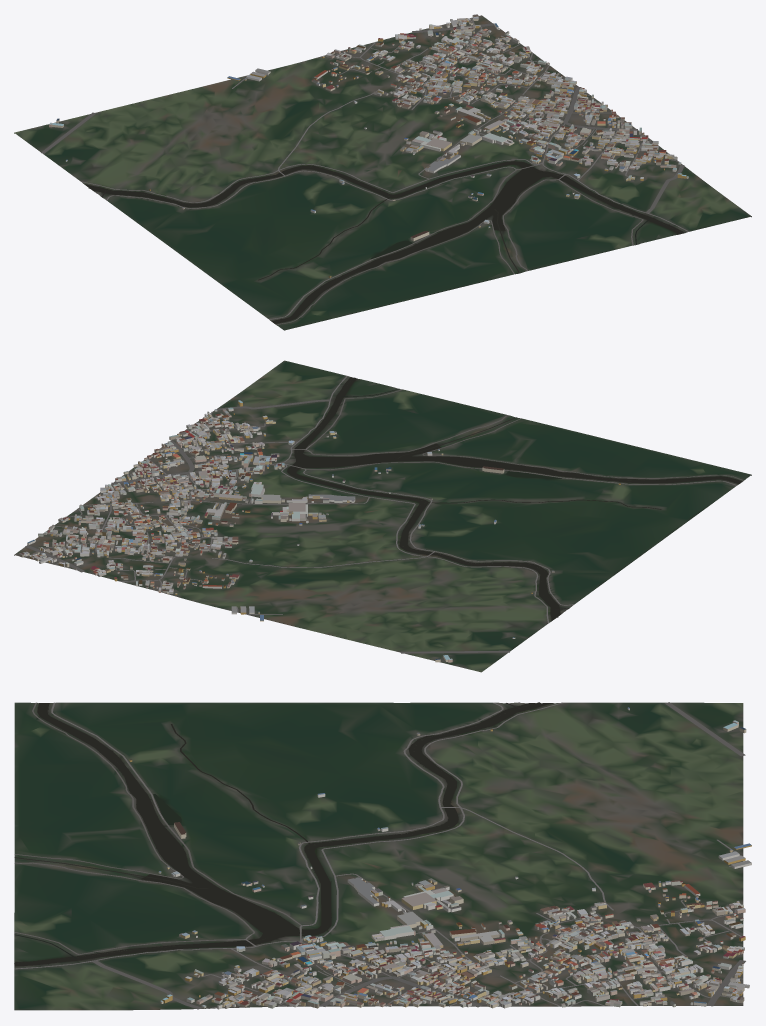
The picture shows the model from 3 angles, top to bottom: view 1: azimuth 30°, elevation 25°; view 2: azimuth 150°, elevation 25°; view 3: azimuth 270°, elevation 25°; orthographic projection. The views are drawn at different scales.
Visible parts, largest first — view 1: ground, buildings, water, roads; view 2: ground, buildings, water, roads; view 3: ground, buildings, water, roads.
Part boxes in pixels (x1,y1,x2,y2): ground: [14, 15, 751, 330]; buildings: [49, 14, 688, 277]; water: [85, 161, 684, 323]; roads: [41, 17, 688, 324]; ground: [14, 360, 751, 672]; buildings: [18, 400, 620, 662]; water: [287, 377, 742, 620]; roads: [24, 376, 743, 653]; ground: [14, 702, 743, 1010]; buildings: [129, 707, 751, 1009]; water: [14, 702, 553, 966]; roads: [14, 702, 745, 1009].
Bounding box in the file's own units: 1410 × 24.38 × 1418.
